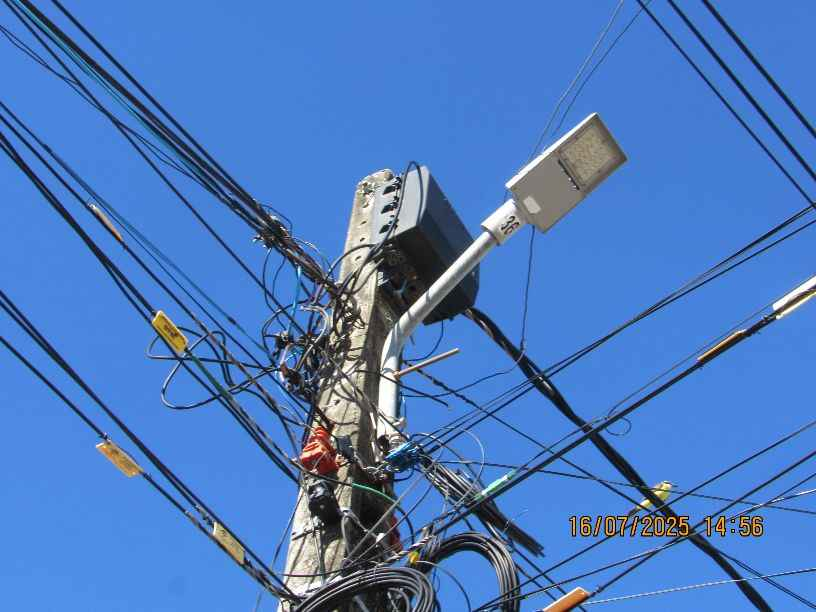caixa_derivacao: (375, 164, 470, 325)
drop: (367, 418, 451, 465)
fibra_optica: (141, 315, 325, 468), (103, 450, 294, 595), (684, 256, 816, 419)
tronco_metalico: (415, 454, 545, 559), (383, 517, 523, 610), (297, 552, 435, 612)
